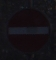No entry: (5, 6, 51, 55)
